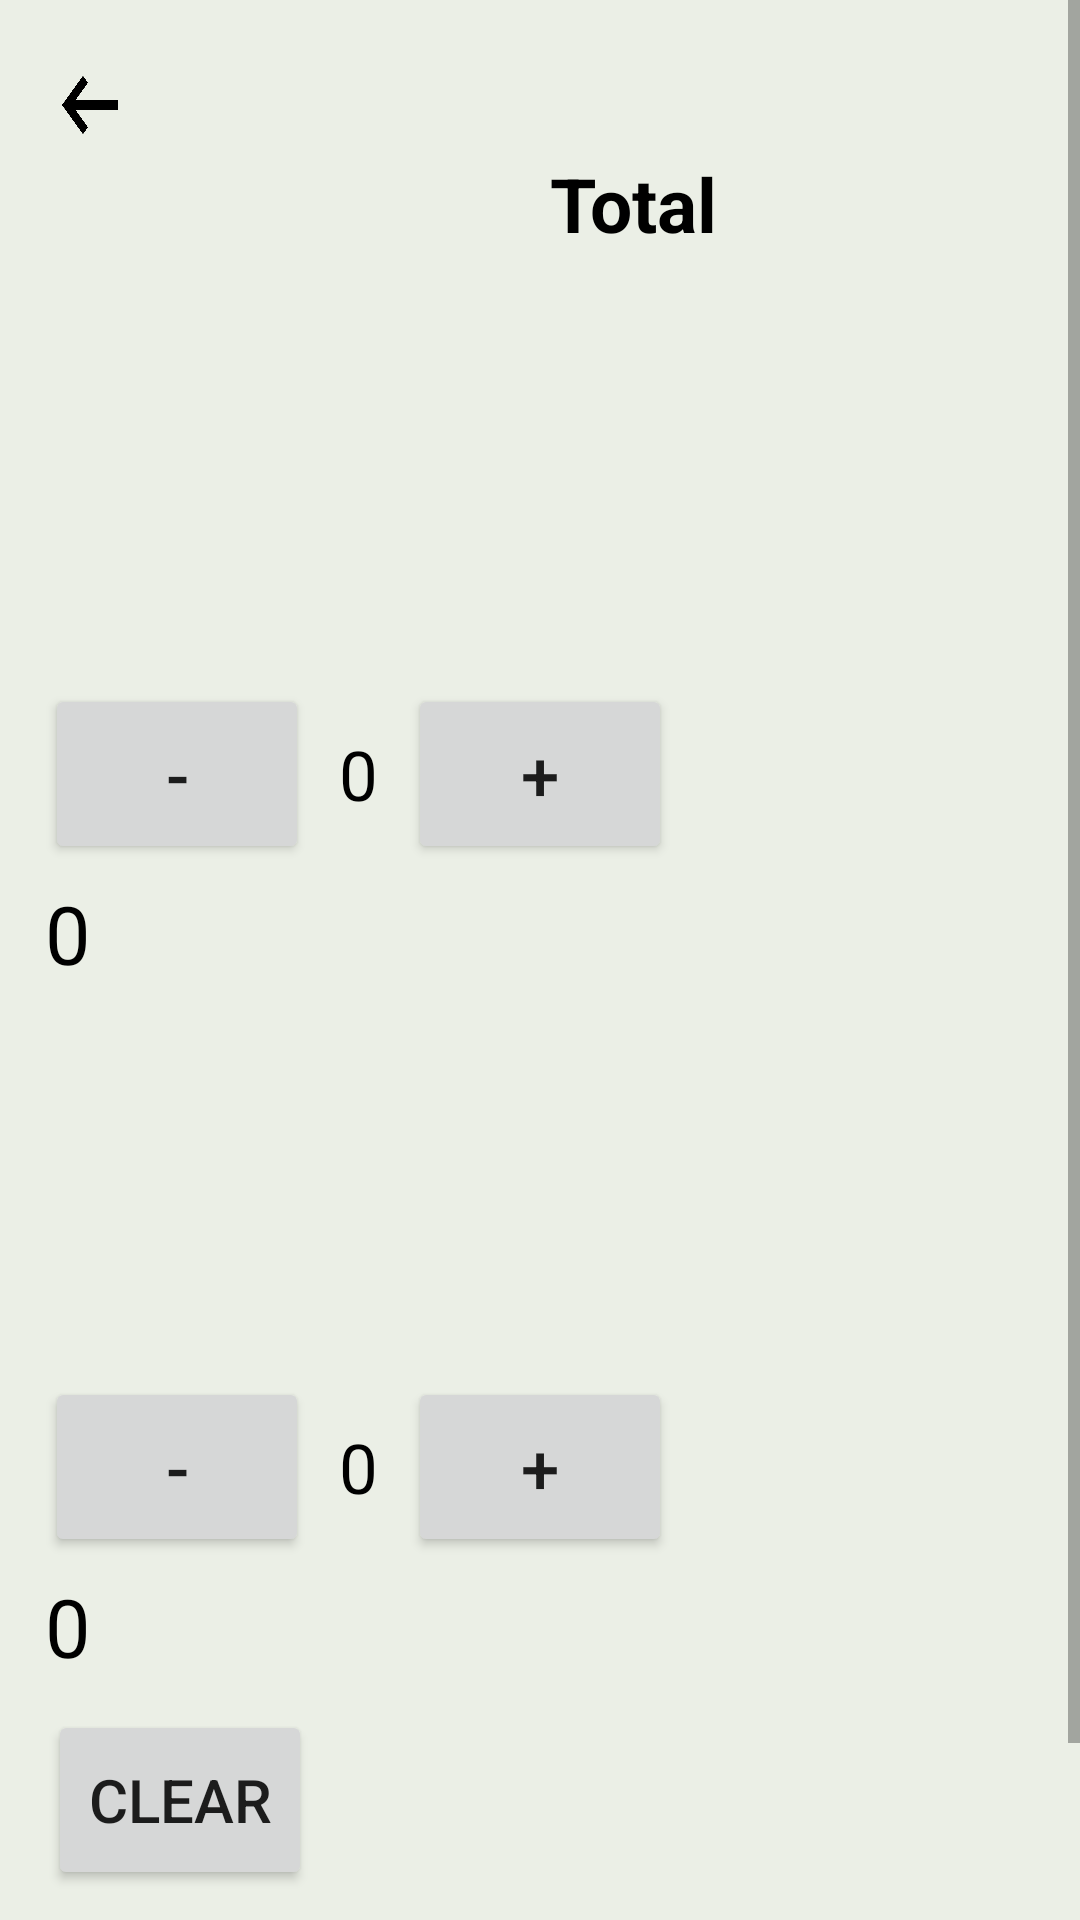

Named icons in this screenshot (1080w x 1920h) and their centers, [x,y]:
west: [90,105]
